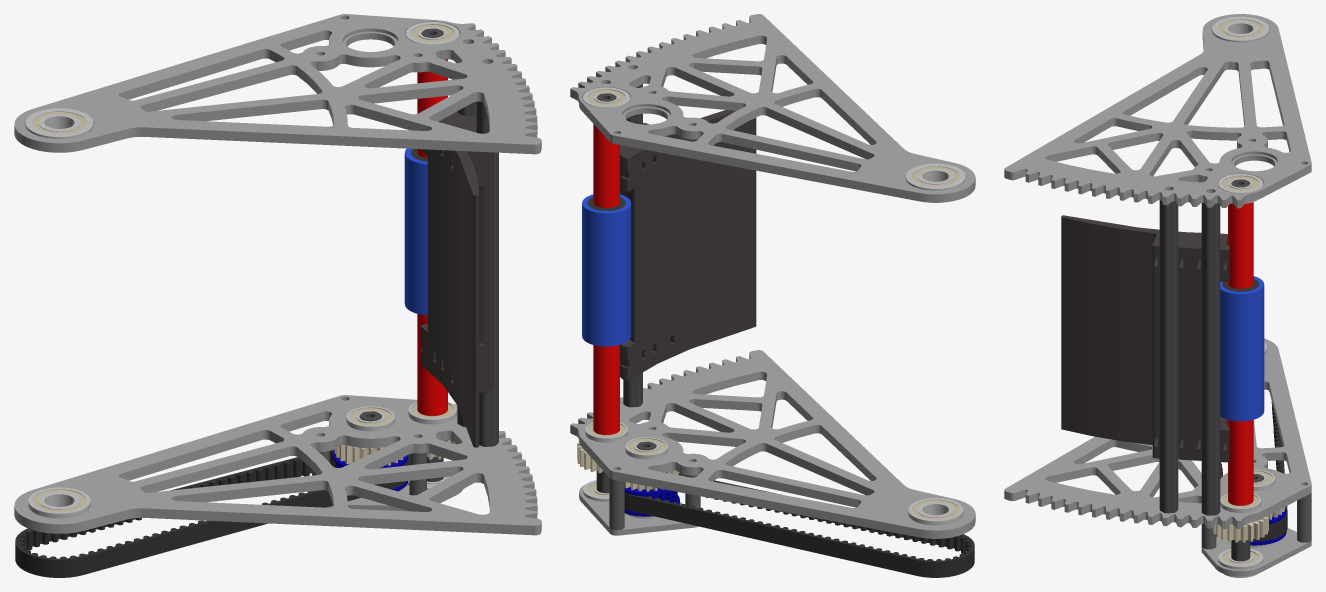
The picture shows the model from 3 angles, left to right: view 1: azimuth 30°, elevation 25°; view 2: azimuth 150°, elevation 25°; view 3: azimuth 270°, elevation 25°; orthographic projection. The views are drawn at different scales.
Parts seen in each view (by area): view 1: 9140-26-SHT3-1-Mirrored, 9140-26-SHT3-1, 9140-26-SHT3-9, 90T 5M 9mm Wide Belt, Sushi Roller (50A, 3/8" Hex Bore) (×3), 1/2" Rounded Hex (13.75mm) ID Bearing (1.125" OD, 0.313" WD, (×2), 3/8" ThunderHex (7.375 in), 3/8" Rounded Hex (10.25mm) ID Bearing (0.875" OD, 0.281" WD, (×2), top roller spacer; view 2: 9140-26-SHT3-1-Mirrored, 9140-26-SHT3-1, 9140-26-SHT3-9, 90T 5M 9mm Wide Belt, Sushi Roller (50A, 3/8" Hex Bore) (×3), top roller spacer (×2), 1/2" Rounded Hex (13.75mm) ID Bearing (1.125" OD, 0.313" WD, (×2), 9140-26-SHT3-2, 3/8" Rounded Hex (10.25mm) ID Bearing (0.875" OD, 0.281" WD, (×2), 0.196" ID Custom Spacer (0.313" OD,1.125" L), 3/8" ThunderHex (7.375 in), redirect_pulley; view 3: 9140-26-SHT3-9, 9140-26-SHT3-1-Mirrored, 9140-26-SHT3-1, 3/8" ThunderHex (7.375 in) (×2), Sushi Roller (50A, 3/8" Hex Bore) (×3), top roller spacer (×2), 9140-26-SHT3-2, 3/8" Rounded Hex (10.25mm) ID Bearing (0.875" OD, 0.281" WD, (×3), 1/2" Rounded Hex (13.75mm) ID Bearing (1.125" OD, 0.313" WD,, 22t Aluminum Spur Gear (20 DP, 3/8" Hex Bore), 90T 5M 9mm Wide Belt, 0.196" ID Custom Spacer (0.313" OD,1.125" L) (+1 smaller).
Boxes of the visible parts, x1,y1,x2,y2 form: 9140-26-SHT3-1-Mirrored: (14,14,541,154); 9140-26-SHT3-1: (14,395,541,535); 9140-26-SHT3-9: (420,111,494,447); 90T 5M 9mm Wide Belt: (15,449,409,577); Sushi Roller (50A, 3/8" Hex Bore) (×3): (404,148,427,315); 1/2" Rounded Hex (13.75mm) ID Bearing (1.125" OD, 0.313" WD, (×2): (25,108,93,518); 3/8" ThunderHex (7.375 in): (476,101,498,446); 3/8" Rounded Hex (10.25mm) ID Bearing (0.875" OD, 0.281" WD, (×2): (346,22,459,431); top roller spacer: (417,314,447,415); 9140-26-SHT3-1-Mirrored: (570,14,975,202); 9140-26-SHT3-1: (570,350,975,538); 9140-26-SHT3-9: (620,110,756,380); 90T 5M 9mm Wide Belt: (624,473,974,577); Sushi Roller (50A, 3/8" Hex Bore) (×3): (582,194,631,346); top roller spacer (×2): (593,124,619,434); 1/2" Rounded Hex (13.75mm) ID Bearing (1.125" OD, 0.313" WD, (×2): (905,163,965,525); 9140-26-SHT3-2: (579,484,698,535); 3/8" Rounded Hex (10.25mm) ID Bearing (0.875" OD, 0.281" WD, (×2): (583,87,667,459); 0.196" ID Custom Spacer (0.313" OD,1.125" L): (609,478,624,530); 3/8" ThunderHex (7.375 in): (623,84,642,407); redirect_pulley: (624,487,679,516); 9140-26-SHT3-9: (1061,215,1229,462); 9140-26-SHT3-1-Mirrored: (1004,14,1311,208); 9140-26-SHT3-1: (1004,338,1311,528); 3/8" ThunderHex (7.375 in) (×2): (1159,200,1220,515); Sushi Roller (50A, 3/8" Hex Bore) (×3): (1220,276,1264,421); top roller spacer (×2): (1228,202,1253,505); 9140-26-SHT3-2: (1201,528,1311,576); 3/8" Rounded Hex (10.25mm) ID Bearing (0.875" OD, 0.281" WD, (×3): (1218,174,1263,577); 1/2" Rounded Hex (13.75mm) ID Bearing (1.125" OD, 0.313" WD,: (1212,16,1269,42); 22t Aluminum Spur Gear (20 DP, 3/8" Hex Bore): (1212,515,1268,542); 90T 5M 9mm Wide Belt: (1220,391,1287,541); 0.196" ID Custom Spacer (0.313" OD,1.125" L): (1297,493,1311,542).
Size of the model in its own units: 0.239 by 0.2319 by 0.1668.
